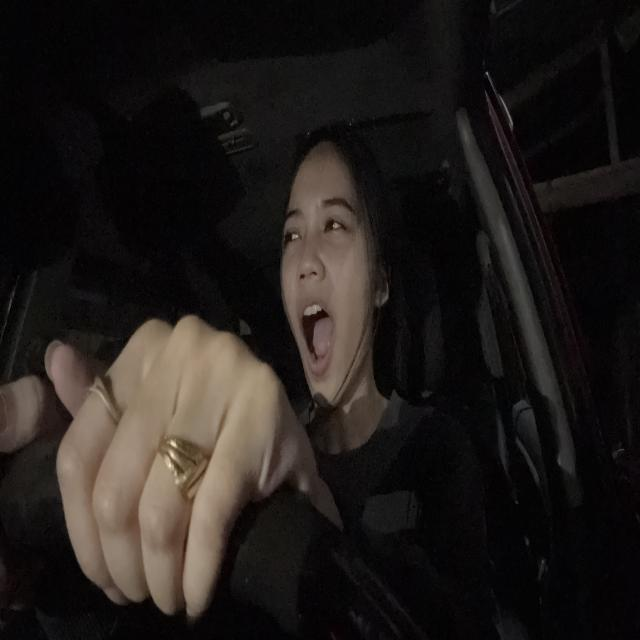open: (319, 192, 359, 242), (280, 205, 306, 252)
